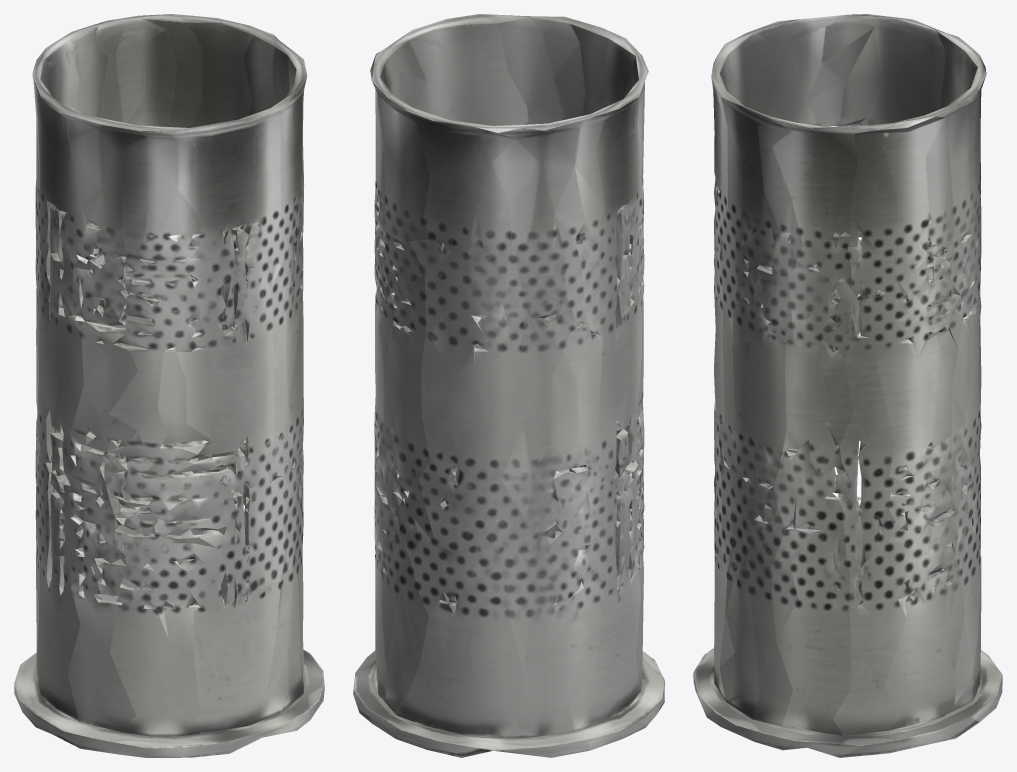
File: mundane_umbrella_stand.glb
3 views of the same model, side by side, from view 1: azimuth 30°, elevation 25°; view 2: azimuth 150°, elevation 25°; view 3: azimuth 270°, elevation 25° (orthographic).
Visible parts, largest first — view 1: geometry_0; view 2: geometry_0; view 3: geometry_0.
Part boxes in pixels (left/top/right/bottom): geometry_0: left=14, top=14, right=324, bottom=757; geometry_0: left=353, top=14, right=664, bottom=757; geometry_0: left=693, top=14, right=1002, bottom=757.
Bounding box in the file's own units: 0.1265 × 0.28 × 0.126.
Materials: 1 (1 with a texture image).
